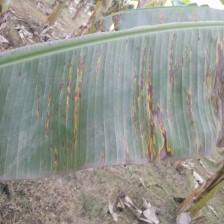sigatoka: (0, 21, 224, 182), (100, 6, 224, 30)
